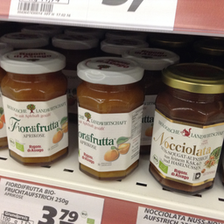jam: (149, 62, 224, 196), (76, 56, 145, 180), (1, 49, 70, 167)
